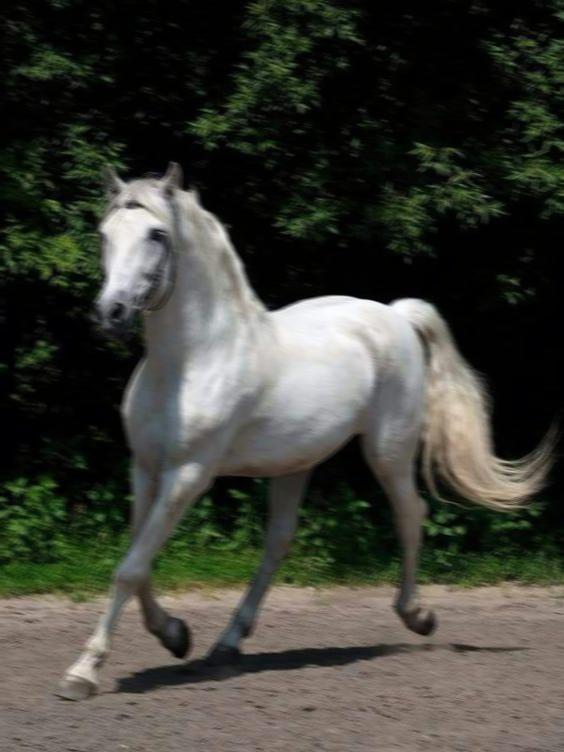horse: (52, 159, 561, 702)
